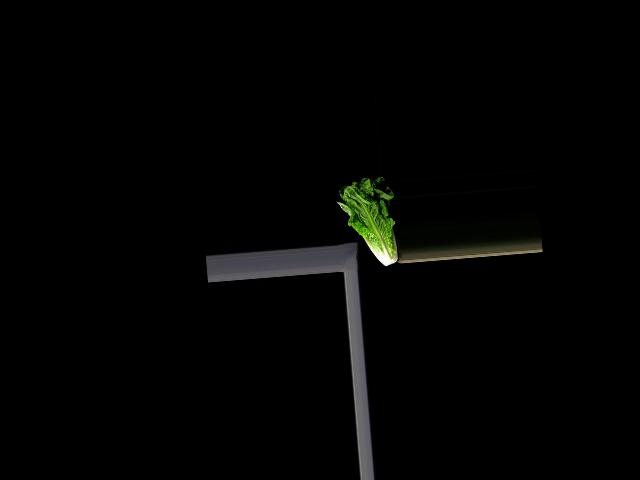lettuce: (335, 173, 400, 270)
